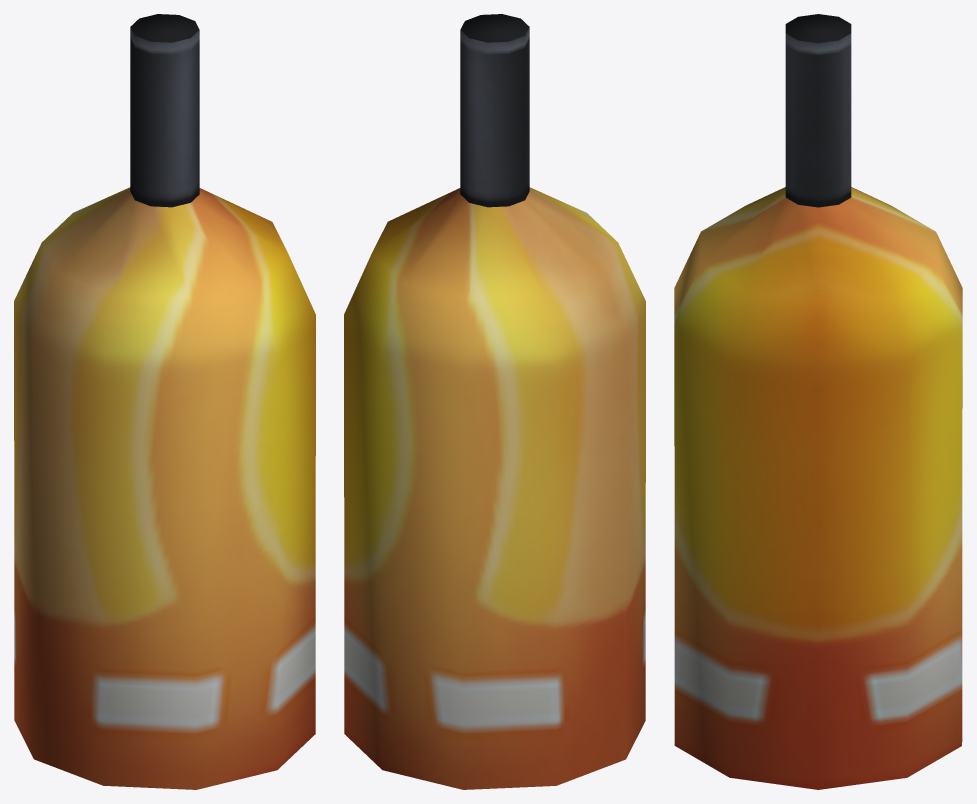
File: G_DanShenHan_pingzi_01.FBX
3 views of the same model, side by side, from view 1: azimuth 30°, elevation 25°; view 2: azimuth 150°, elevation 25°; view 3: azimuth 270°, elevation 25° (orthographic).
Visible parts, largest first — view 1: DanShenHan_pingzi_01; view 2: DanShenHan_pingzi_01; view 3: DanShenHan_pingzi_01.
Boxes of the visible parts, x1,y1,x2,y2 form: DanShenHan_pingzi_01: (14, 14, 315, 789); DanShenHan_pingzi_01: (344, 14, 645, 789); DanShenHan_pingzi_01: (674, 14, 962, 789).
Size of the model in its own units: 14.69 by 37.32 by 13.98.
